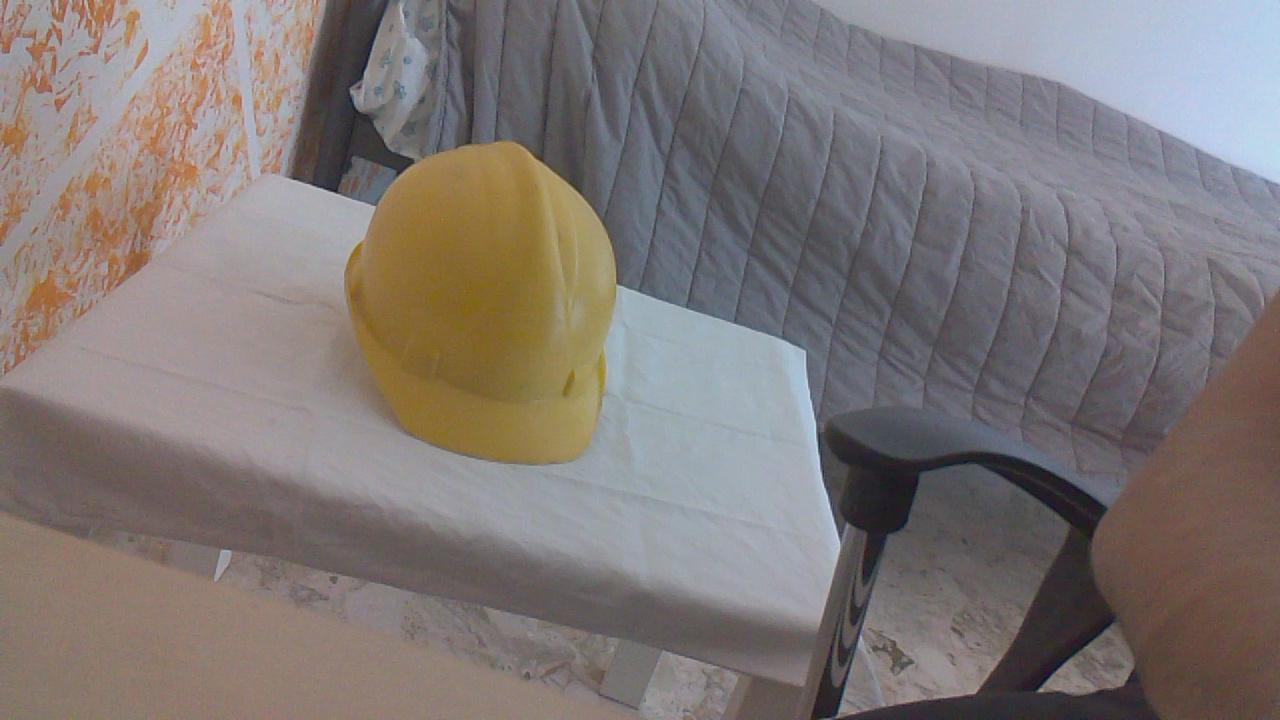Helmet: (347, 137, 678, 480)
